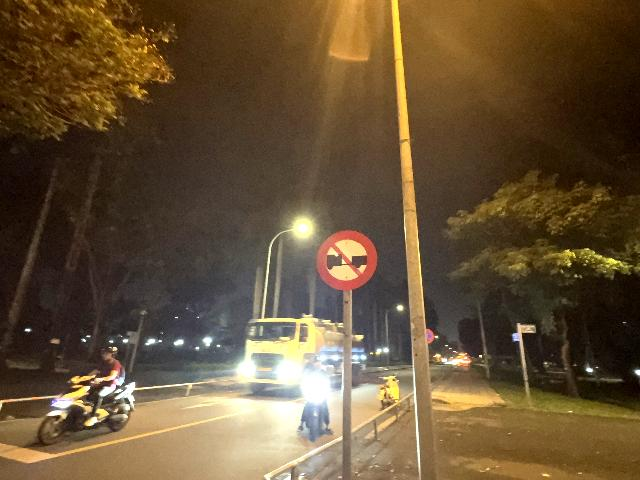cam-xe-somi-romooc: (316, 230, 377, 291)
